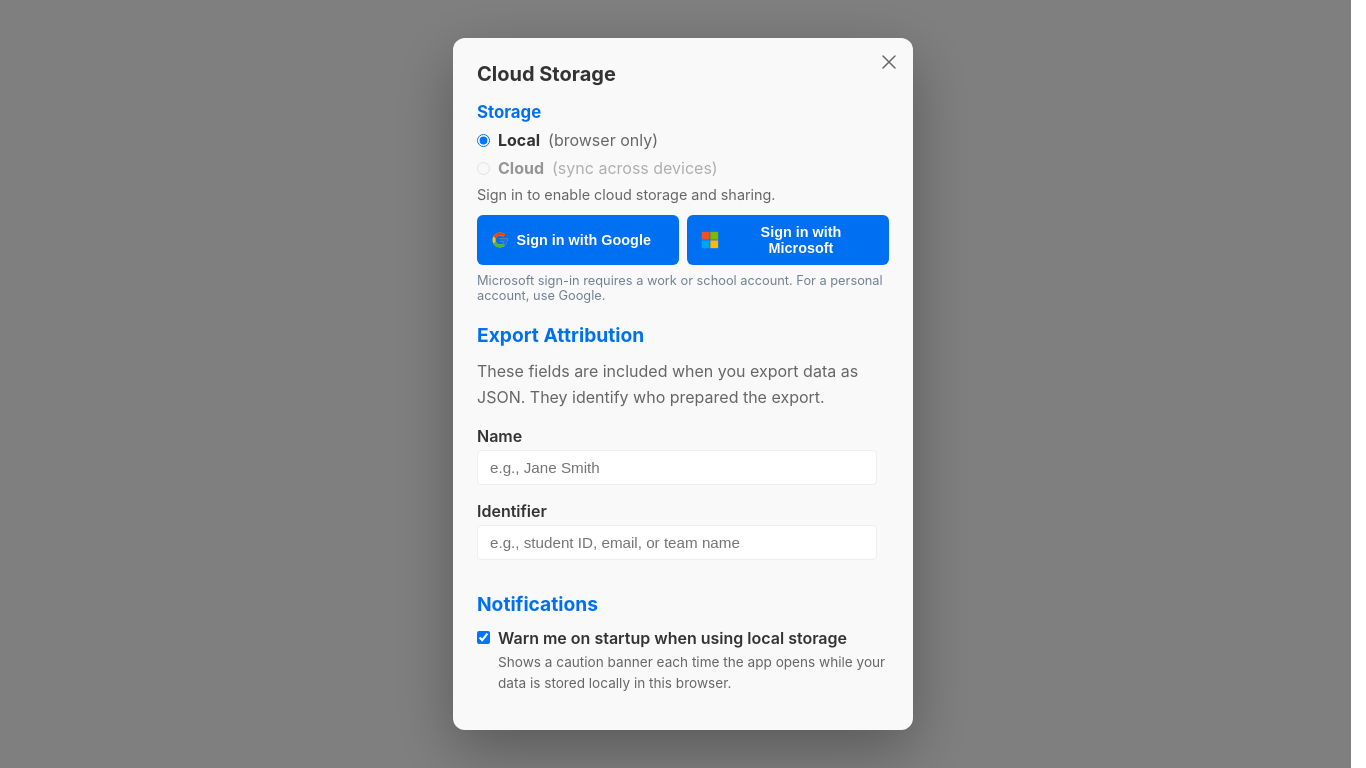
CloudStorageModal sign-in errors (real terms gate) › shows the friendly message for any other sign-in error, not the raw error text
Click the button "Sign in with Microsoft" at (788, 240), box x1=687 y1=215 x2=889 y2=265
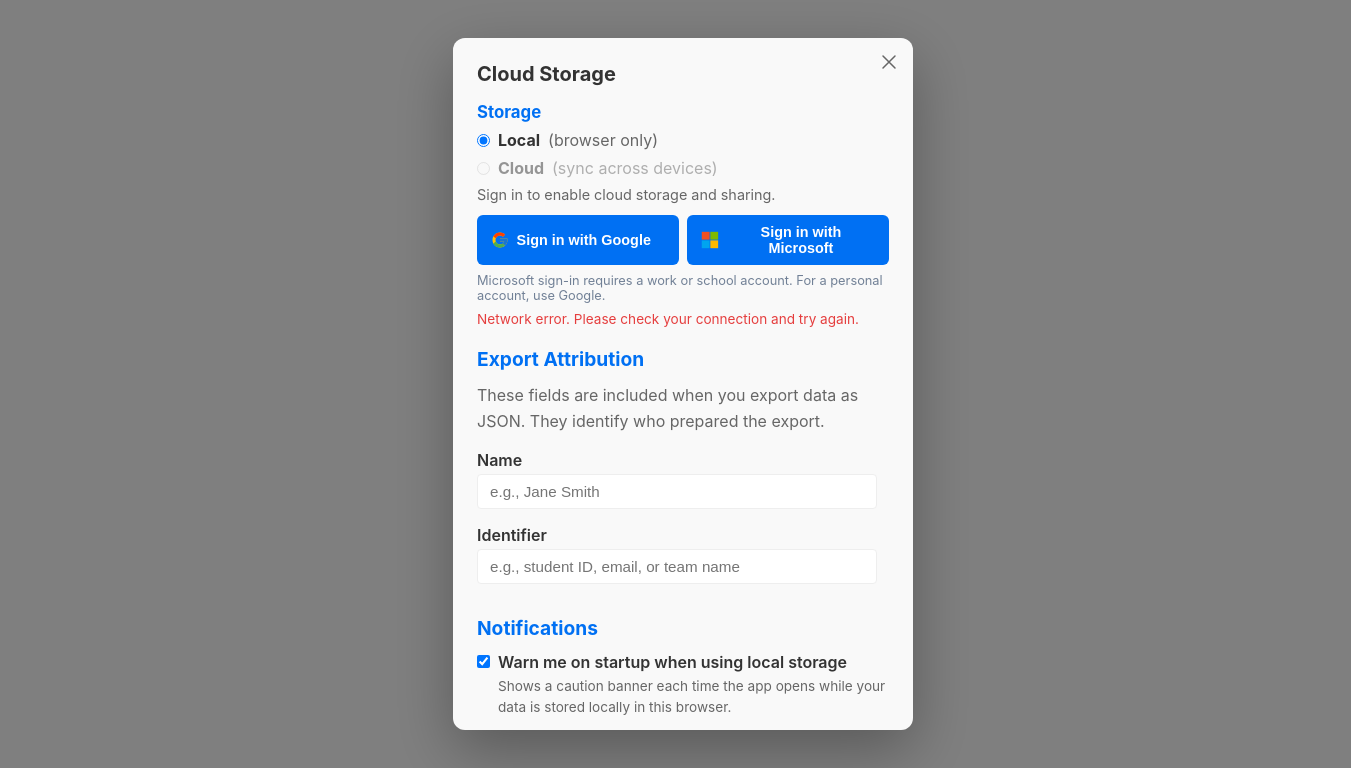
Now the text "Network error. Please check your connection and try again." is shown, box x1=477 y1=311 x2=889 y2=327
